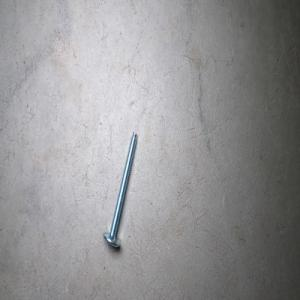Bolt: (102, 130, 137, 248)
